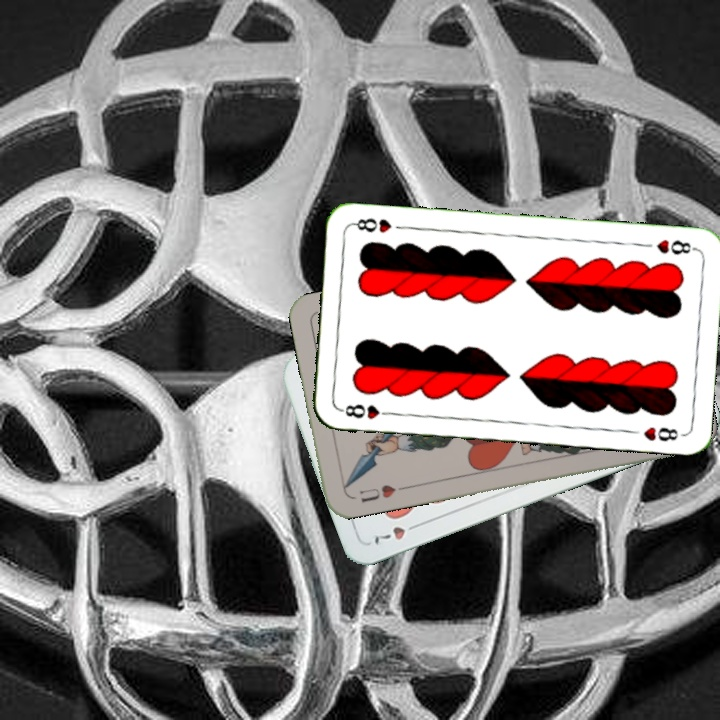H7: (367, 519, 424, 548)
H8: (337, 400, 396, 421), (652, 235, 698, 258)
HU: (355, 480, 398, 505)
